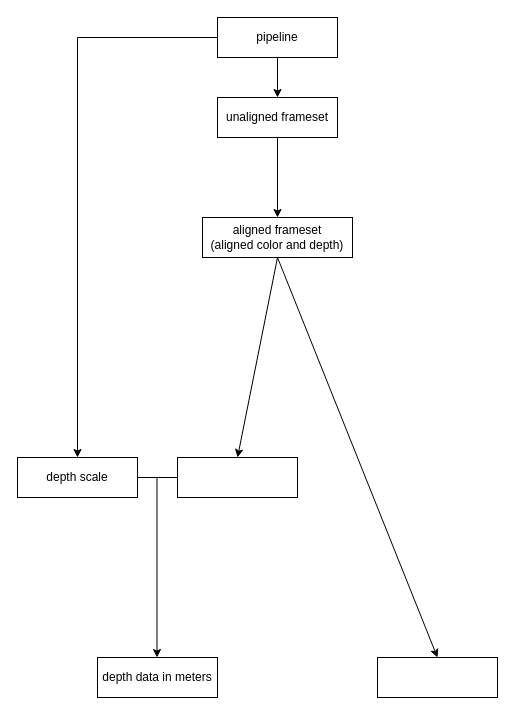
This 515x715 diagram has some shape labels left out. The centre of each missing label's shape, as x and y in pixels:
"color data" belongs at [437,677].
"depth frame" belongs at [237,477].
